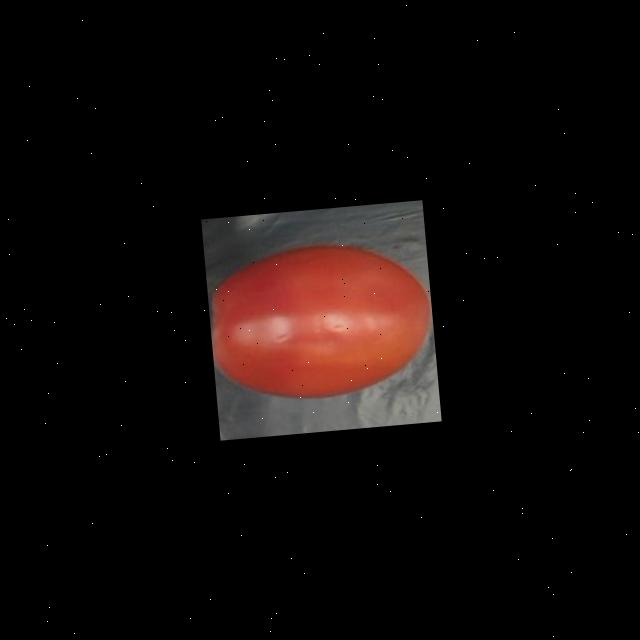tomato: (202, 225, 438, 412)
